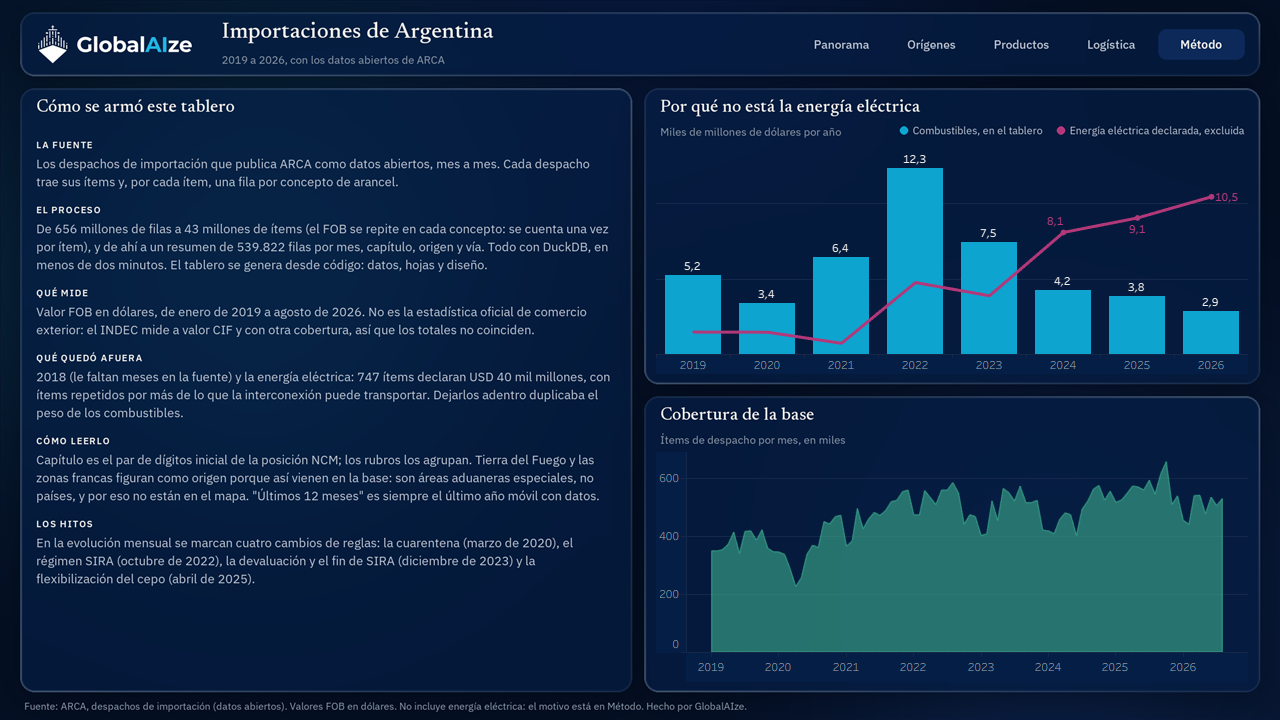

The page's visual inventory and layout, read from the dashboard file:
{"tool":"tableau","page":{"name":"Método","canvas":[1280,720],"ordinal":4},"visuals":[{"type":"image","param":"fondos/metodo.png","box":[0,0,1280,720]},{"type":"dashboard-object","box":[798,29,86,30]},{"type":"dashboard-object","box":[888,29,86,30]},{"type":"dashboard-object","box":[978,29,86,30]},{"type":"dashboard-object","box":[1068,29,86,30]},{"type":"worksheet","title":"Energía eléctrica","mark":"Automatic","rows":["c_combustibles","c_electrica"],"cols":["Fecha"],"box":[656,144,592,230]},{"type":"worksheet","title":"Cobertura","mark":"Area","rows":["c_items_miles"],"cols":["Fecha"],"box":[656,452,592,230]}]}

Visuals, with their boxes in screenshot pixels (x1, y1, x2, y2), scaled from the page's 1280x720 canvas onto the 1280x720 screenshot:
image: 0,0,1279,719
dashboard-object: 798,29,884,59
dashboard-object: 888,29,974,59
dashboard-object: 978,29,1064,59
dashboard-object: 1068,29,1154,59
"Energía eléctrica" worksheet: 656,144,1248,374
"Cobertura" worksheet (Area marks): 656,452,1248,682
